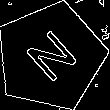N_SE: (19, 25, 83, 88)
